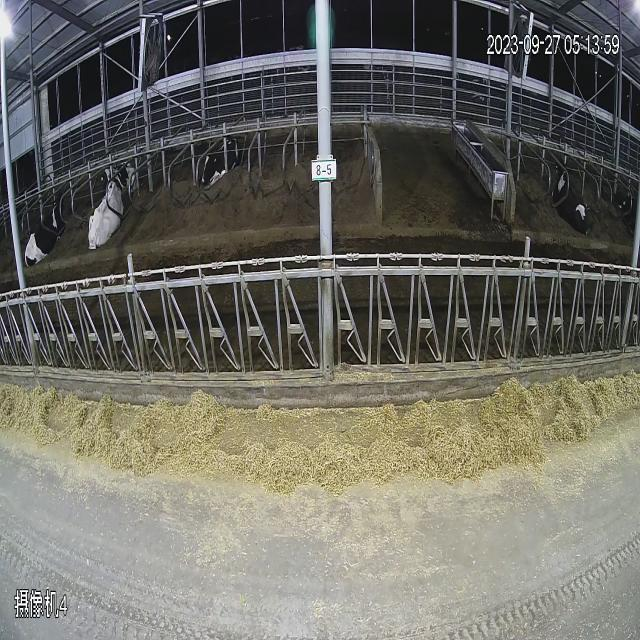lying down: (87, 152, 138, 268), (20, 190, 75, 276), (550, 150, 589, 235)
